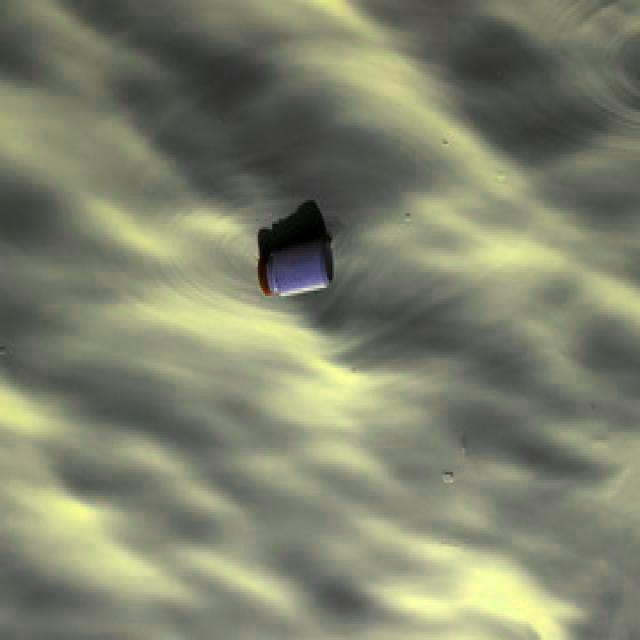Metal: (255, 234, 336, 298)
